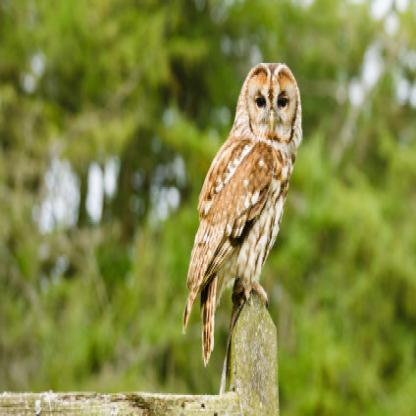owl: (189, 19, 415, 414)
